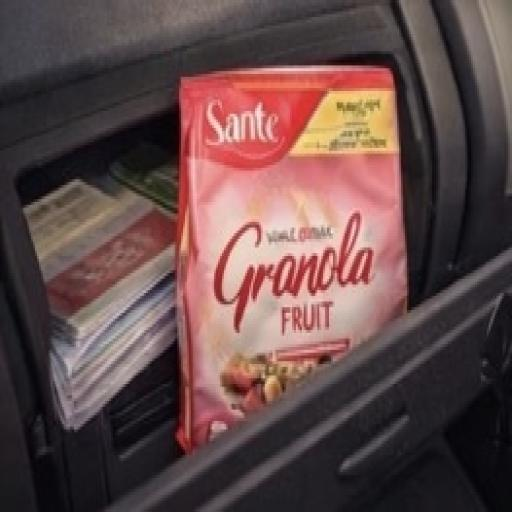granola: (160, 48, 446, 461)
